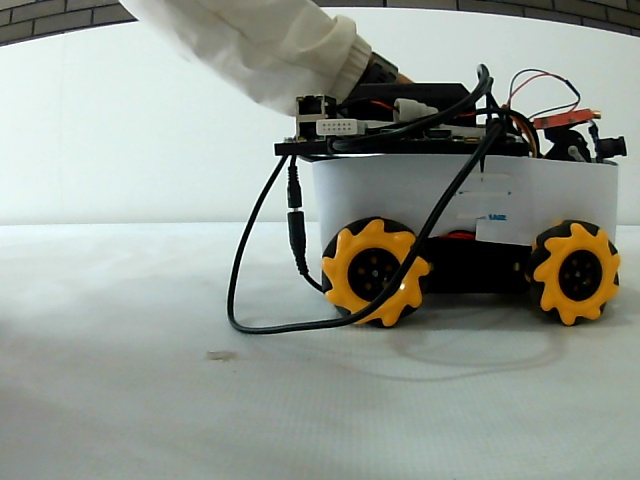car: (289, 80, 627, 332)
paper: (312, 159, 618, 220)
